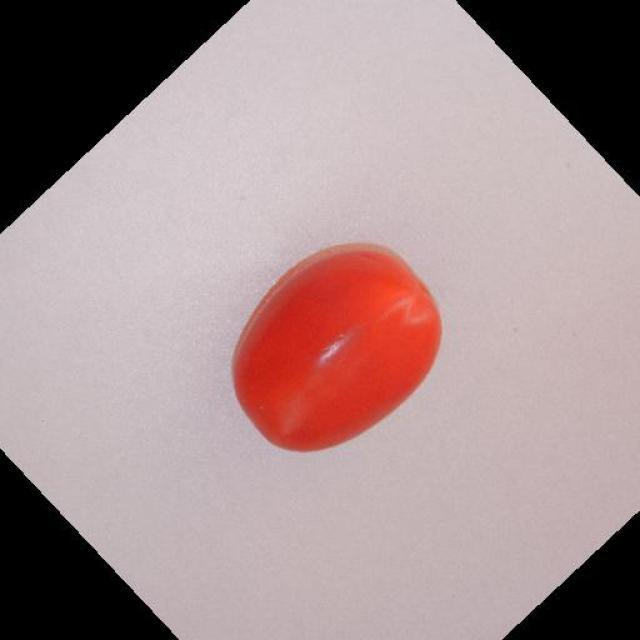Fresh Tomato: (218, 228, 450, 463)
